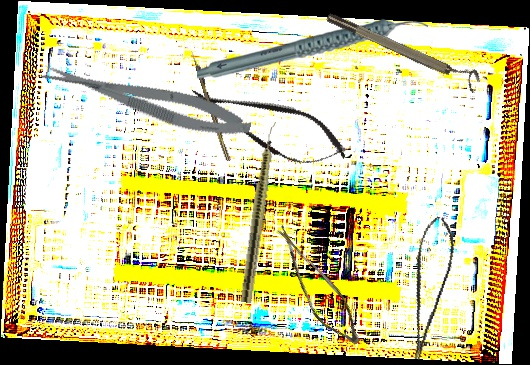Fixation Ring: (324, 3, 484, 94)
Handpiece: (197, 18, 428, 81), (239, 120, 280, 304)
Hook Surgical: (190, 50, 231, 162)
Micro Scissor: (38, 50, 255, 148), (181, 69, 355, 181), (250, 222, 380, 352), (388, 213, 464, 362)
